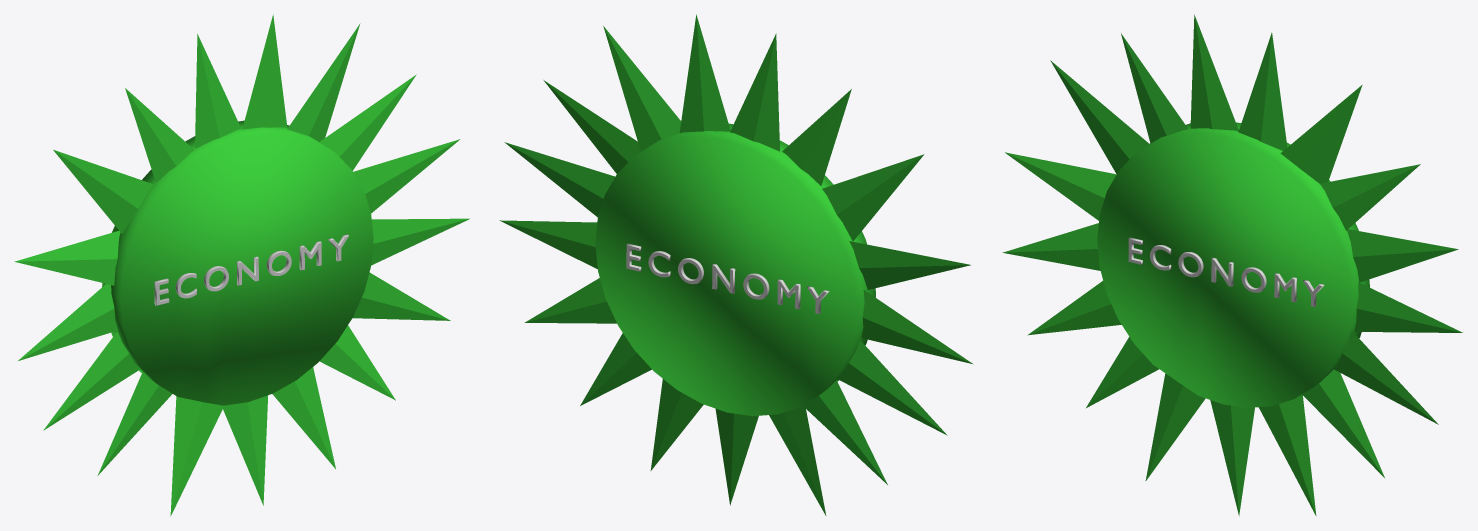
File: economysparkgreenmerge3.glb
3 renders of one model, left to right at view 1: azimuth 30°, elevation 25°; view 2: azimuth 150°, elevation 25°; view 3: azimuth 330°, elevation 25°, orthographic. The views are drawn at different scales.
Parts seen in each view (by area): view 1: Circle, Efficiency Spark; view 2: Circle, Efficiency Spark.001; view 3: Circle, Efficiency Spark.
Boxes of the visible parts, box(x1,y1,x2,y2) form: Circle: box(14, 14, 469, 516); Efficiency Spark: box(154, 234, 348, 305); Circle: box(499, 14, 973, 515); Efficiency Spark.001: box(626, 243, 829, 313); Circle: box(1002, 14, 1462, 516); Efficiency Spark: box(1128, 237, 1324, 306).
Size of the model in its own units: 15.47 by 15.49 by 1.5.
